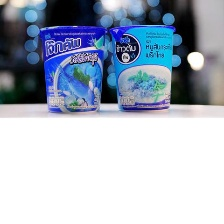paper_cup: (34, 21, 109, 116), (106, 22, 179, 116)
